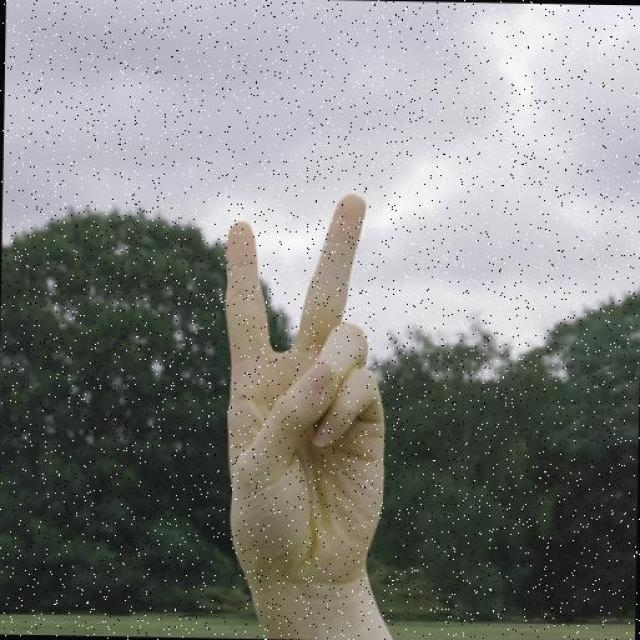V: (210, 188, 393, 604)
